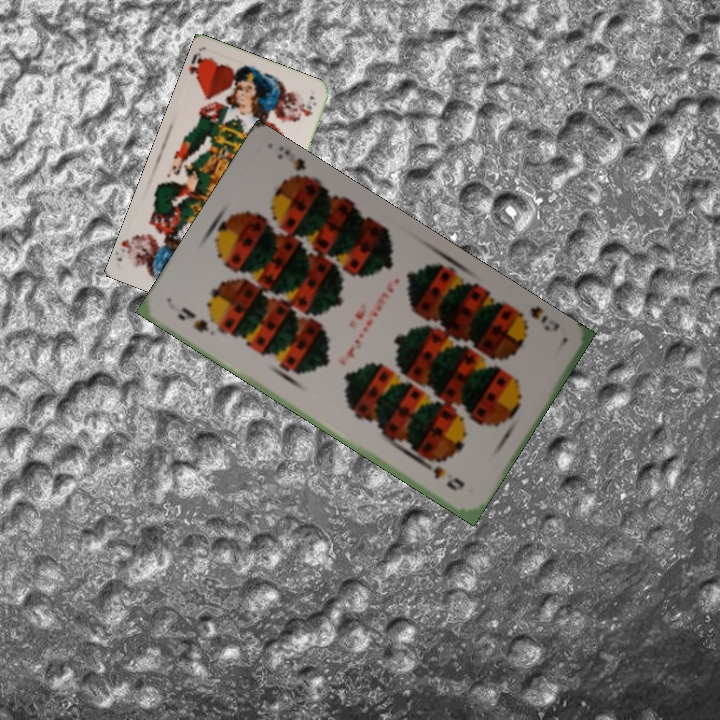HO: (185, 49, 210, 85)
S9: (511, 304, 563, 334), (173, 303, 212, 335)
